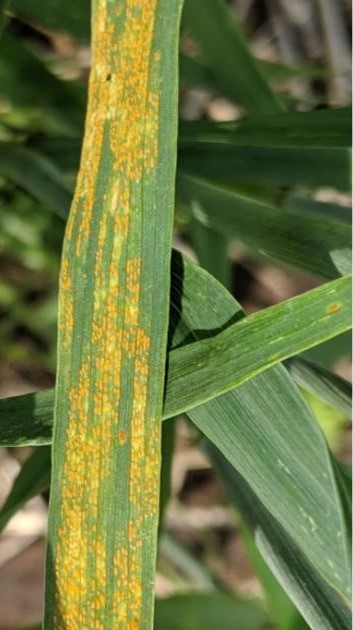Leaf Rust: (45, 37, 181, 622)
